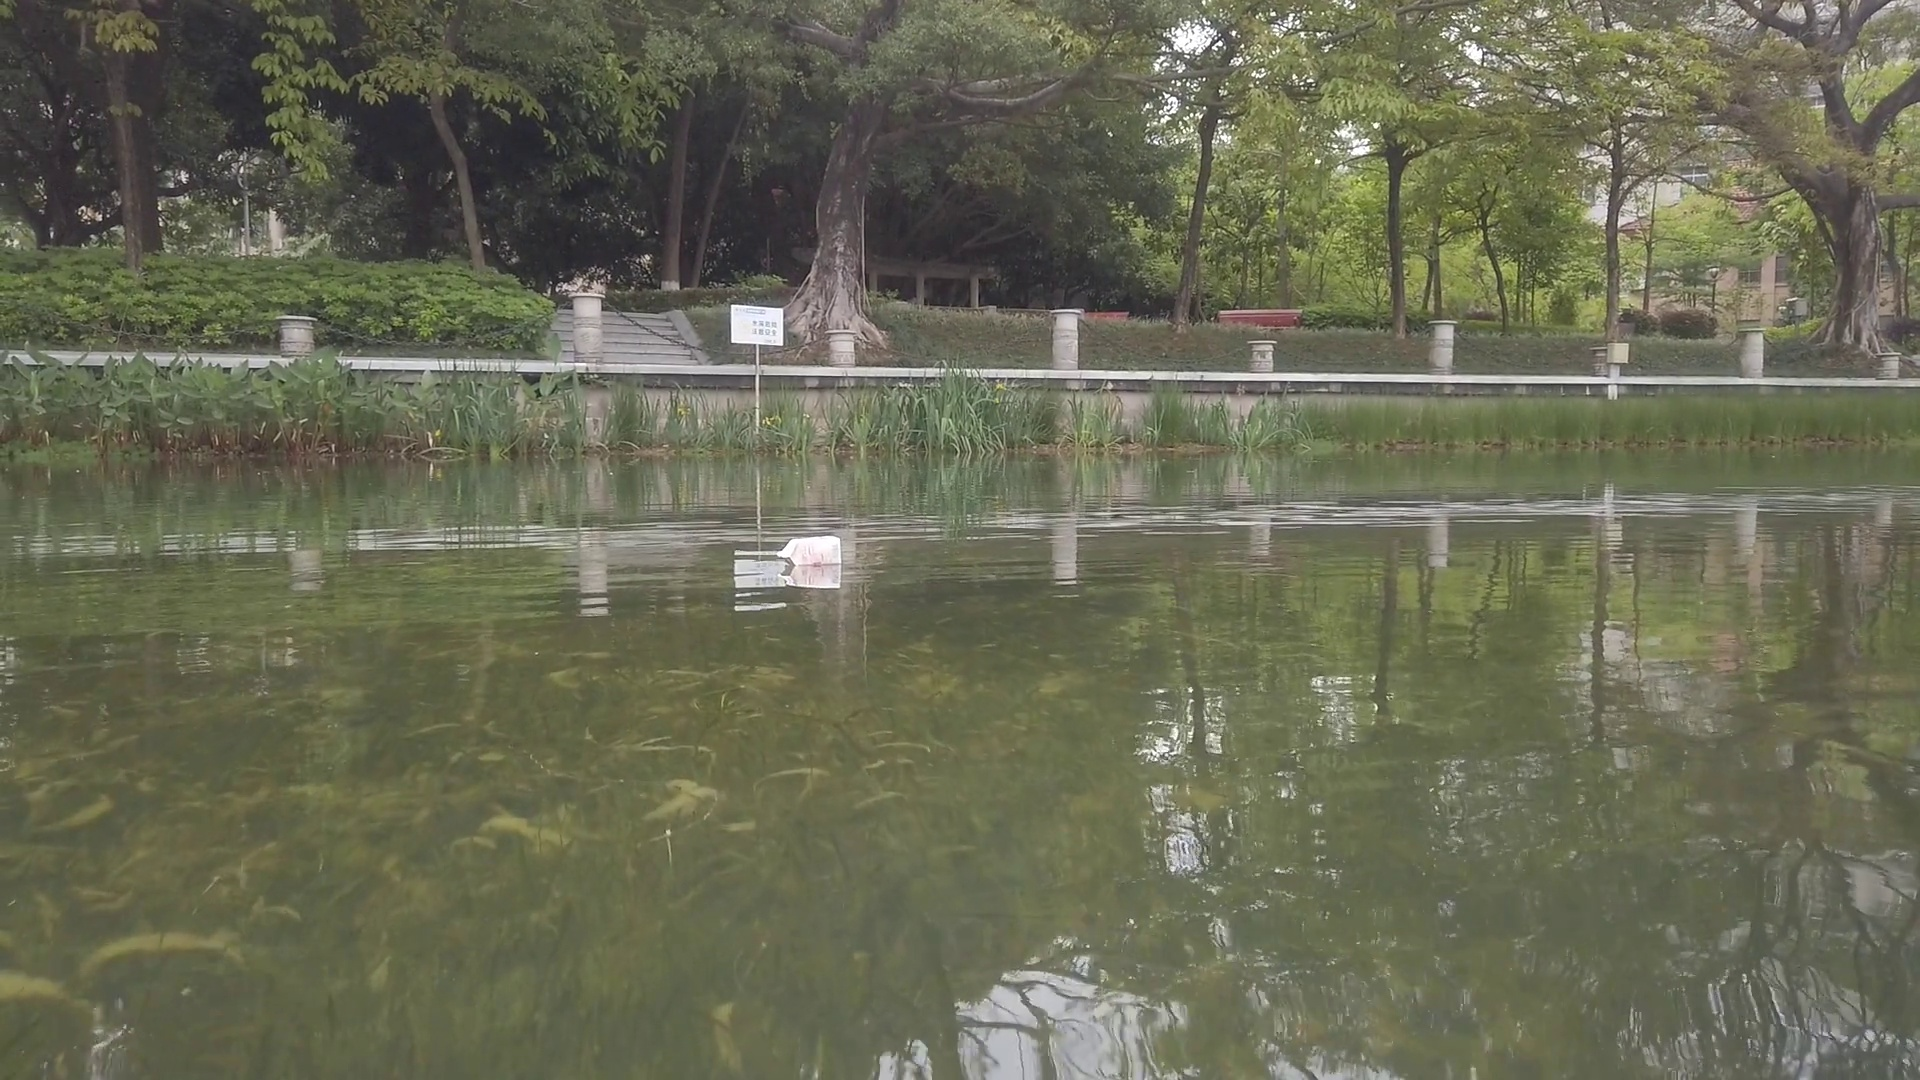carton: (782, 535, 840, 564)
